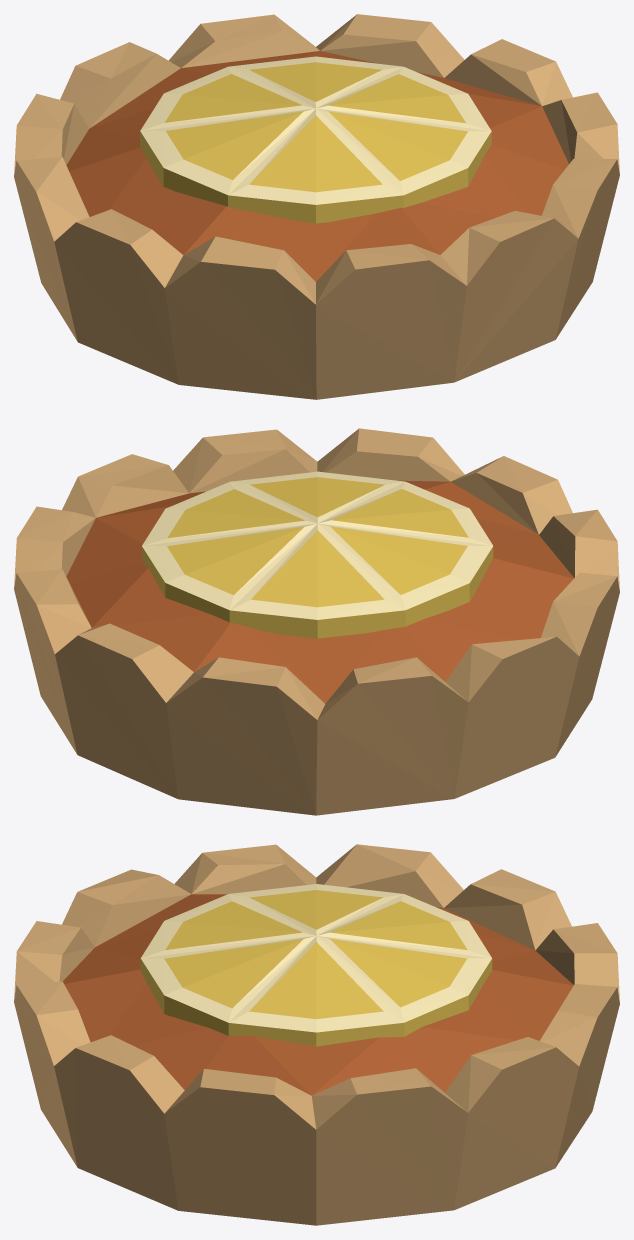
File: tarte_lemon.fbx
3 views of the same model, one above another, from view 1: azimuth 30°, elevation 25°; view 2: azimuth 150°, elevation 25°; view 3: azimuth 270°, elevation 25° (orthographic).
Visible parts, largest first — view 1: tarte_lemon; view 2: tarte_lemon; view 3: tarte_lemon.
Boxes of the visible parts, bbox=[...] form: tarte_lemon: bbox=[14, 14, 619, 399]; tarte_lemon: bbox=[14, 428, 619, 815]; tarte_lemon: bbox=[14, 844, 619, 1225].
Bounding box in the file's own units: 9.84 × 3.15 × 9.84.
